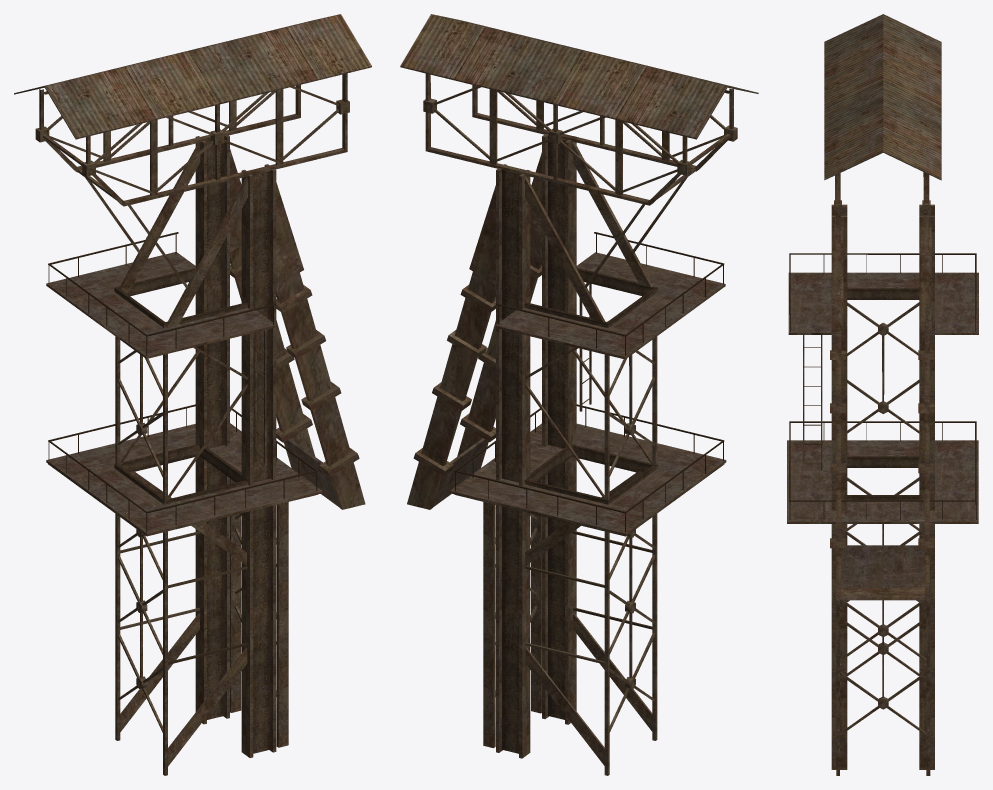
The model's file is grainelevator01.glb.
The picture shows the model from 3 angles, left to right: view 1: azimuth 30°, elevation 25°; view 2: azimuth 150°, elevation 25°; view 3: azimuth 270°, elevation 25°; orthographic projection. The views are drawn at different scales.
Visible parts, largest first — view 1: 0_grainelevator01; view 2: 0_grainelevator01; view 3: 0_grainelevator01.
Boxes of the visible parts, x1,y1,x2,y2 form: 0_grainelevator01: (14,14,371,775); 0_grainelevator01: (400,14,758,775); 0_grainelevator01: (787,14,978,775).
Size of the model in its own units: 11.27 by 25.28 by 6.64.
Materials: 1 (1 with a texture image).
